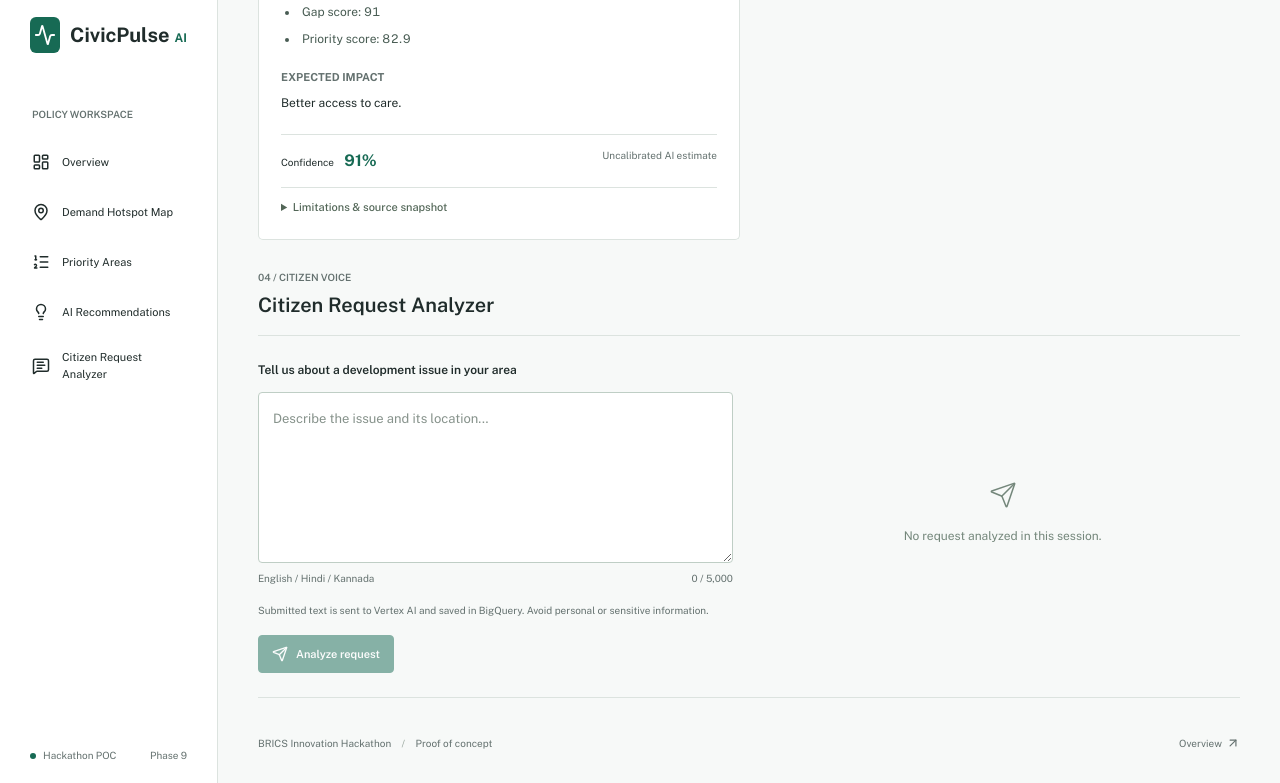
Test: Phase 9 policymaker dashboard › does not match an unresolved request location
The width and height of the screenshot is (1280, 783).
(page scrolled)
Type "Hospital too far in Test Ward" into the text box labelled "Tell us about a development issue in your area" at (496, 478), box x1=258 y1=392 x2=733 y2=563
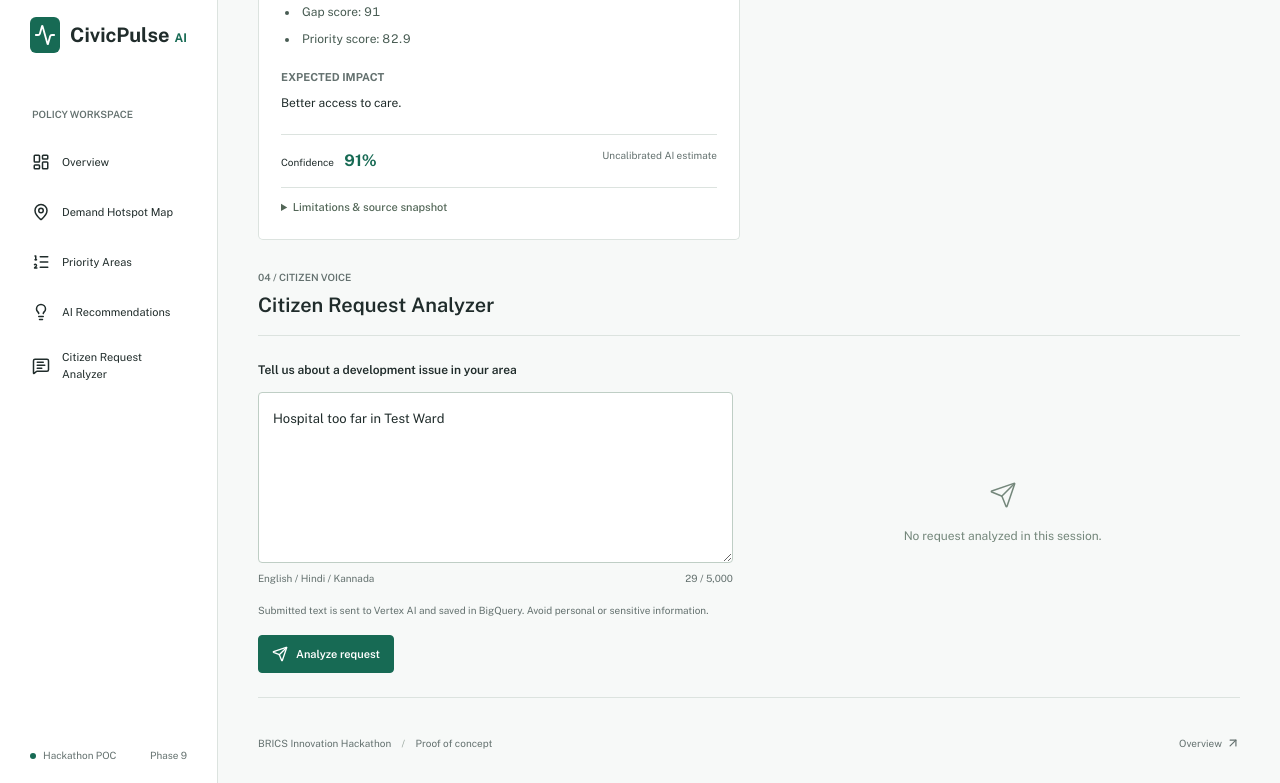
Click the button "Analyze request" at (326, 654), box x1=258 y1=635 x2=394 y2=673
(page scrolled)
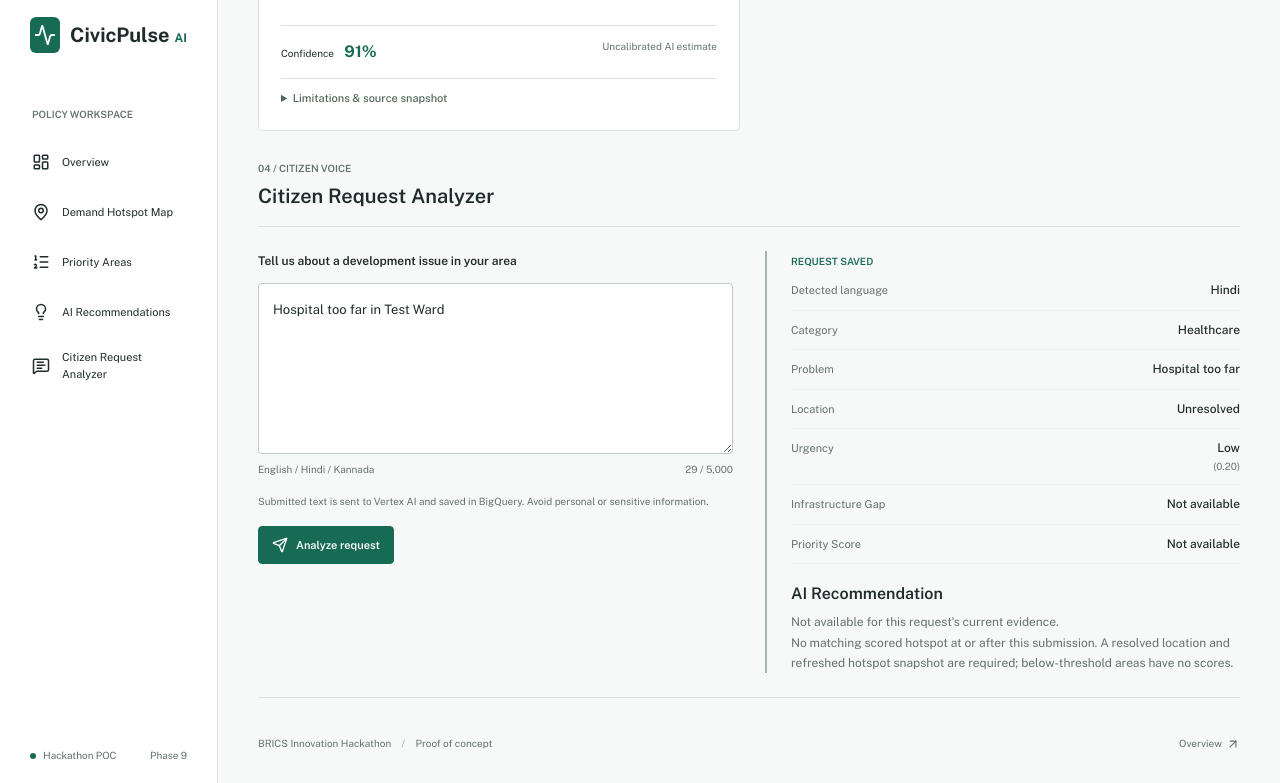
Expected: the element named "Request analysis" shows "Low", x1=1217 y1=441 x2=1240 y2=455
Expected: the element named "Request analysis" shows "Unresolved", x1=1177 y1=402 x2=1240 y2=416
Expected: the element named "Request analysis" shows "Not available", x1=1167 y1=497 x2=1240 y2=511
